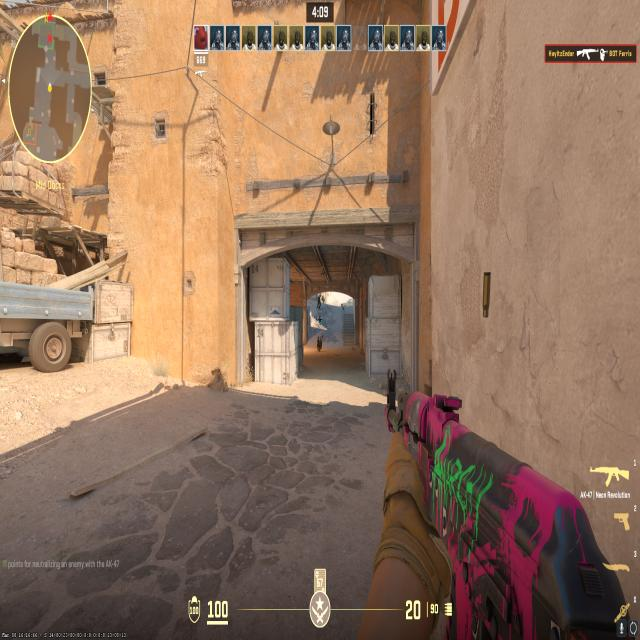t: (315, 290, 322, 312)
